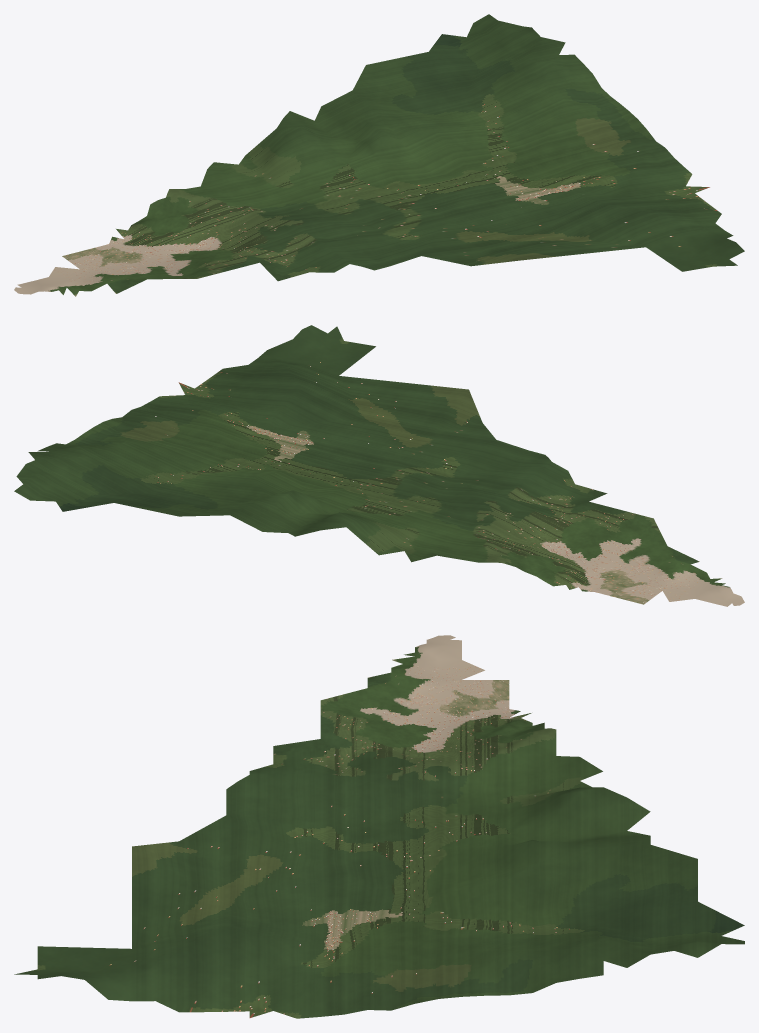
File: SM_Fondale_Colline_NO_LOD2.fbx
3 views of the same model, one above another, from view 1: azimuth 30°, elevation 25°; view 2: azimuth 150°, elevation 25°; view 3: azimuth 270°, elevation 25° (orthographic). The views are drawn at different scales.
Parts seen in each view (by area): view 1: SM_Fondale_Colline_NO_LOD2; view 2: SM_Fondale_Colline_NO_LOD2; view 3: SM_Fondale_Colline_NO_LOD2.
Boxes of the visible parts, <box> form: SM_Fondale_Colline_NO_LOD2: <box>14,14,744,296</box>; SM_Fondale_Colline_NO_LOD2: <box>14,325,744,606</box>; SM_Fondale_Colline_NO_LOD2: <box>14,635,744,1018</box>.
Size of the model in its own units: 948000 by 744000 by 76951.
Materials: 1 (1 with a texture image).
